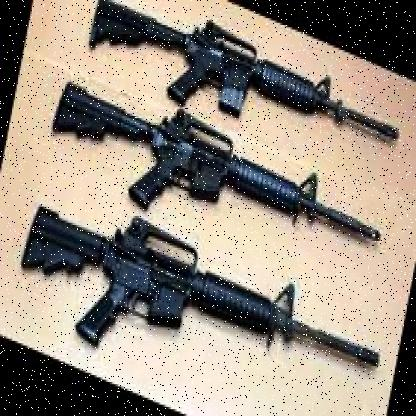rifle: (4, 179, 385, 416), (40, 67, 390, 304), (76, 0, 410, 200)
